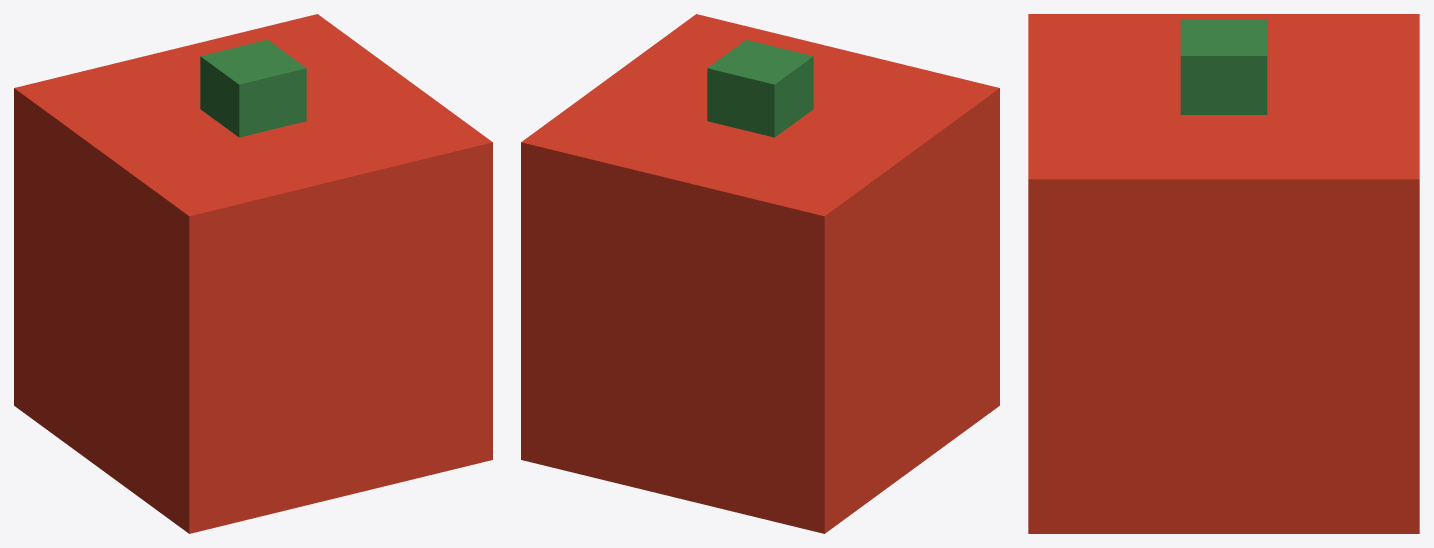
The model's file is tomato.glb.
The picture shows the model from 3 angles, left to right: view 1: azimuth 30°, elevation 25°; view 2: azimuth 150°, elevation 25°; view 3: azimuth 270°, elevation 25°; orthographic projection. The views are drawn at different scales.
Visible parts, largest first — view 1: tomato; view 2: tomato; view 3: tomato.
Part boxes in pixels (x1,y1,x2,y2): tomato: (14,14,492,533); tomato: (521,14,999,533); tomato: (1028,14,1419,533).
Bounding box in the file's own units: 0.09 × 0.105 × 0.09.
Materials: 1 (1 with a texture image).
